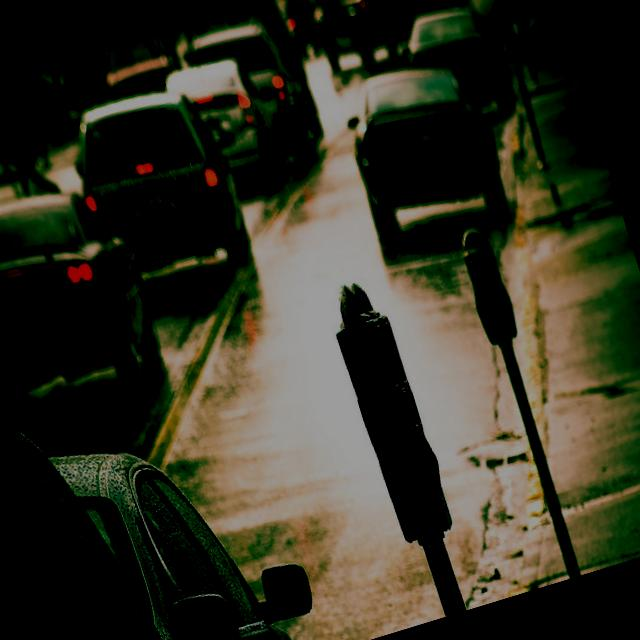Vehicle: (48, 392, 330, 640), (0, 171, 185, 473), (56, 73, 262, 303), (332, 36, 530, 258), (15, 396, 154, 640), (179, 7, 333, 197), (160, 44, 288, 208), (385, 0, 524, 144), (302, 0, 470, 90), (96, 32, 182, 105), (278, 0, 333, 57)
